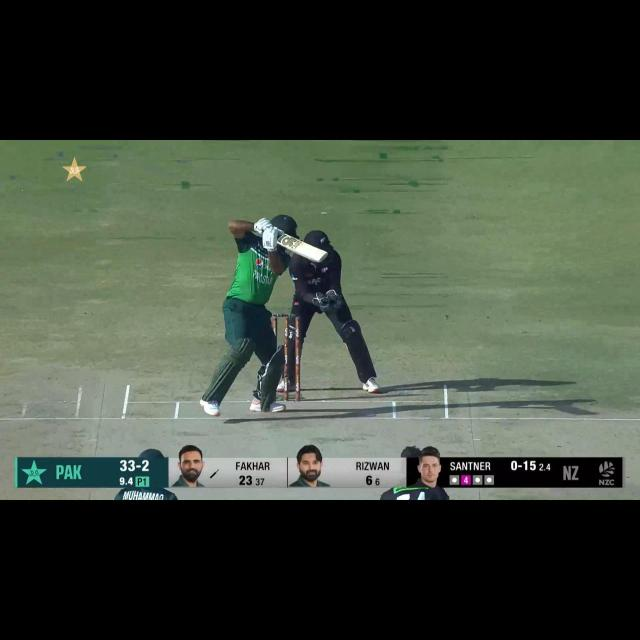bat: (270, 231, 332, 267)
toe: (304, 245, 329, 264)
